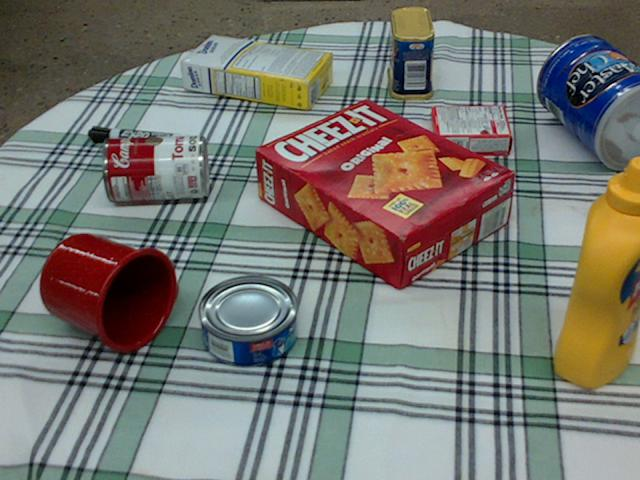cracker_box: (257, 98, 514, 287)
gelatin_box: (428, 101, 511, 156)
large_marker: (87, 126, 187, 149)
master_chef_can: (534, 36, 639, 170)
mug: (38, 233, 176, 351)
mustard_bottle: (553, 155, 639, 386)
potted_meat_can: (385, 6, 434, 99)
sugar_box: (180, 35, 333, 108)
tomato_soup_can: (101, 133, 208, 201)
tuna_fish_can: (196, 275, 296, 367)
